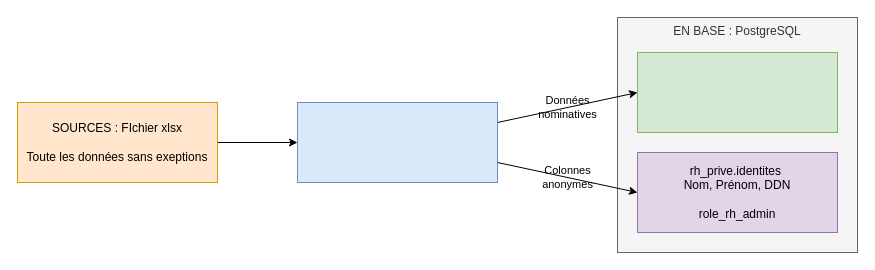
The diagram is 875 pixels wide and 270 high, and some of its shapes have lost their labels. Each missing label, with the centre of its shape:
8 colonnes anonymisées role_pipeline: the point at 737,92
EN MEMOIRE : Python Séparation des données senssible: the point at 397,142
